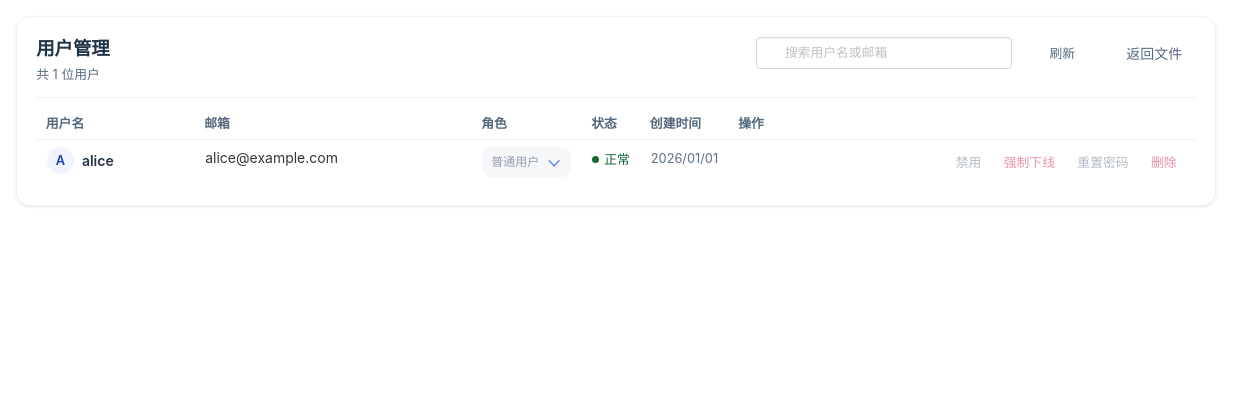
Test case: AdminUsers.vue › filters users by keyword and by role
Expected: the text "alice" is shown, [82,150,114,171]
Step 1. Type "zzz" into the search field labelled "搜索用户名或邮箱" → x=884, y=53, box [756,37,1012,69]
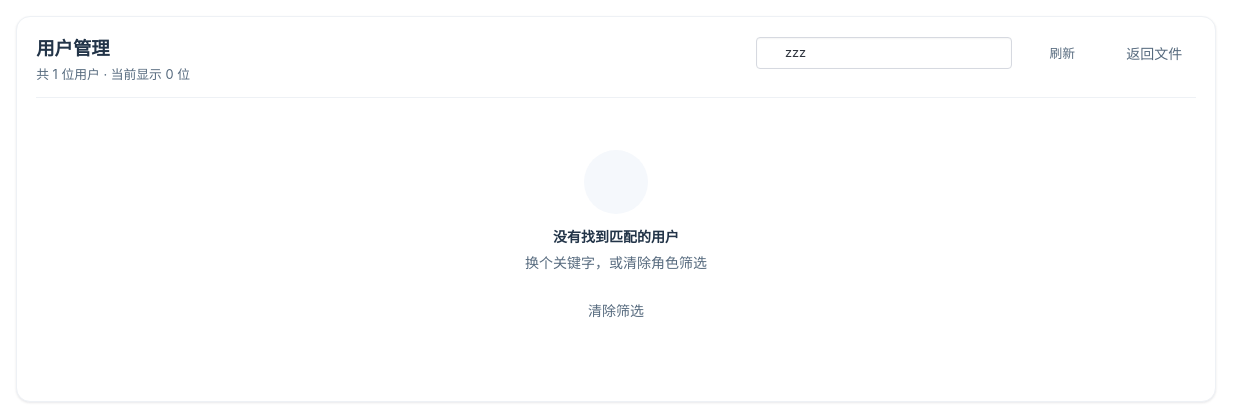
Expected: the text "没有找到匹配的用户" is shown, [553,226,679,247]
Step 2. Click the button "清除筛选" → x=616, y=310, box [574,292,658,328]
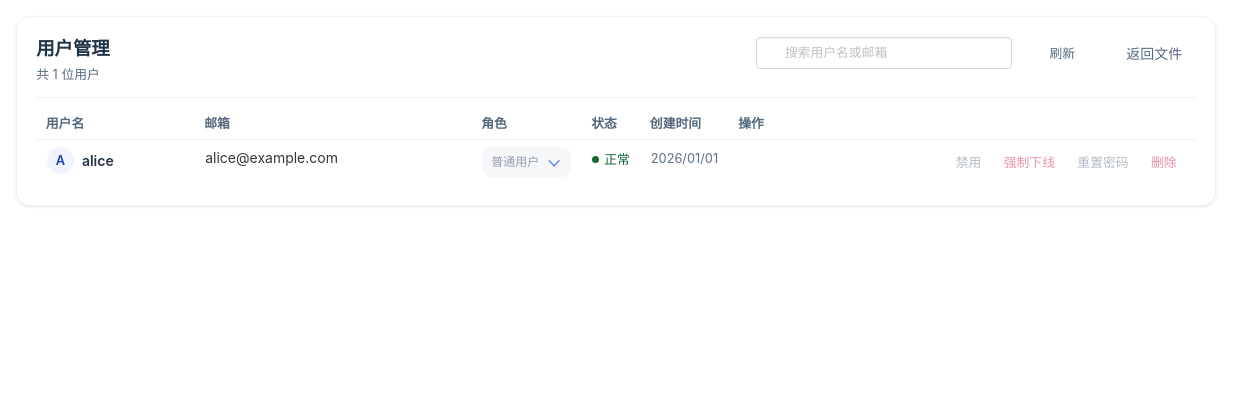
Expected: the text "alice" is shown, [82,150,114,171]
